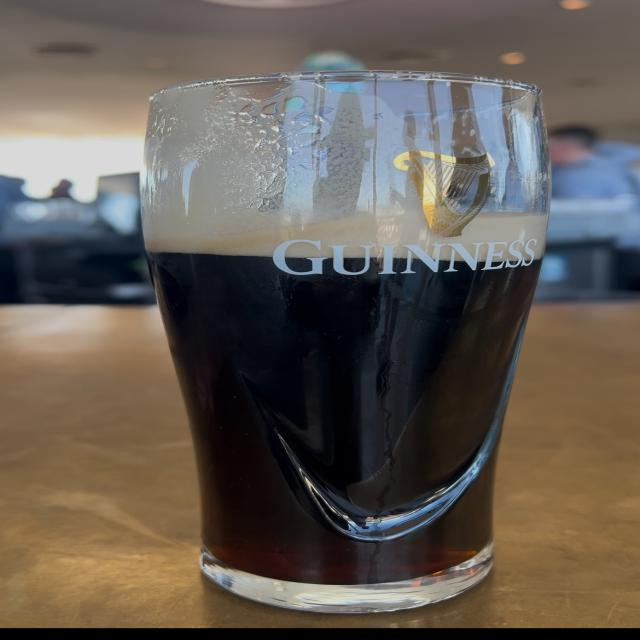split_guiness: (149, 72, 552, 612)
